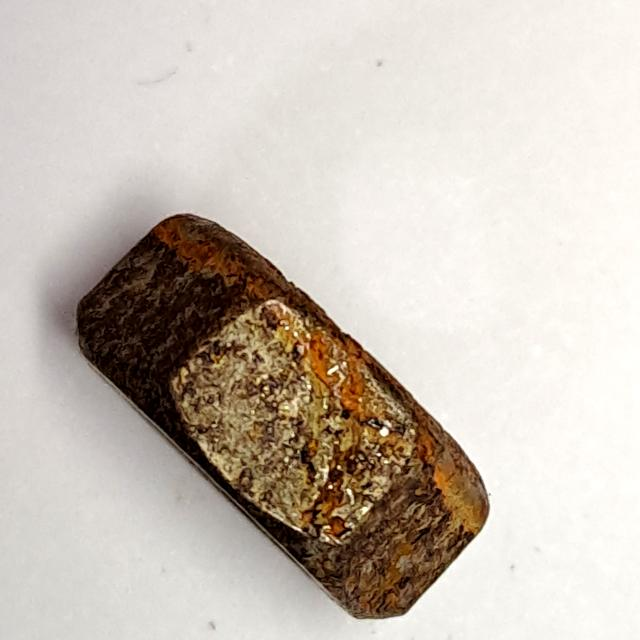Side_Rust: (60, 205, 501, 629)
